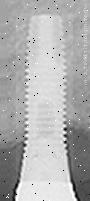Biomet 3i: (16, 12, 82, 201)
